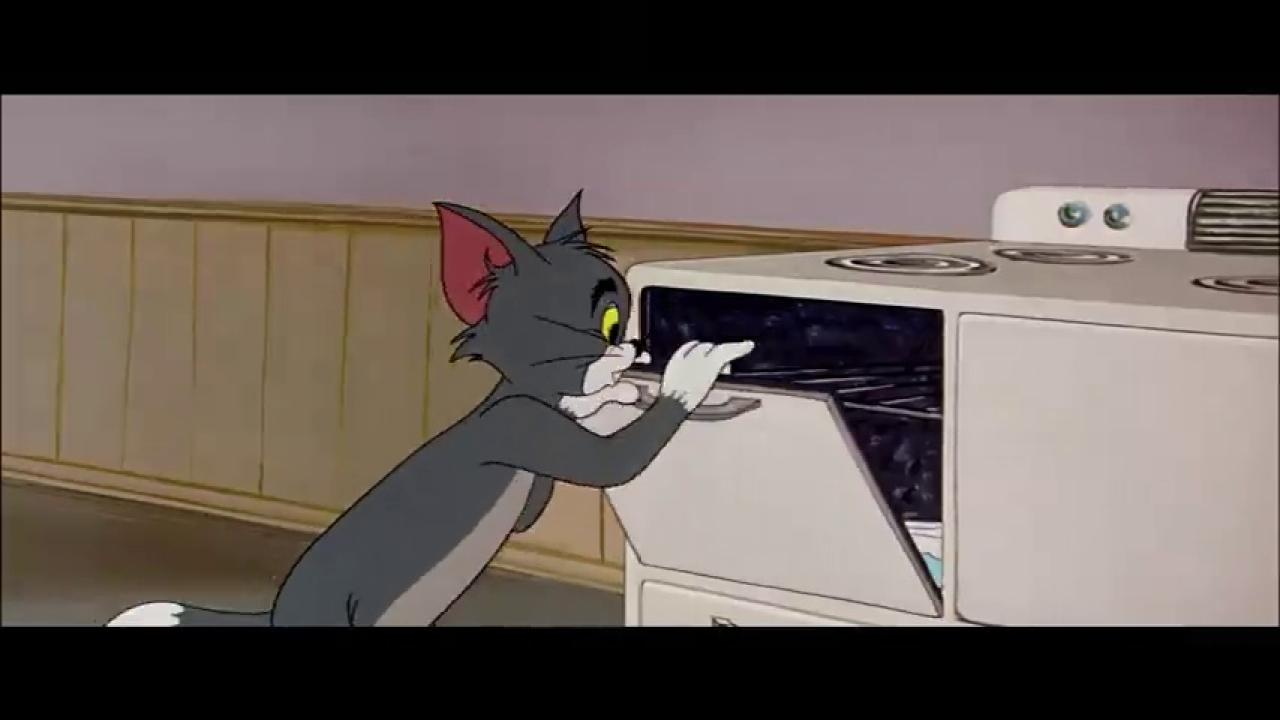Tom: (105, 185, 758, 627)
